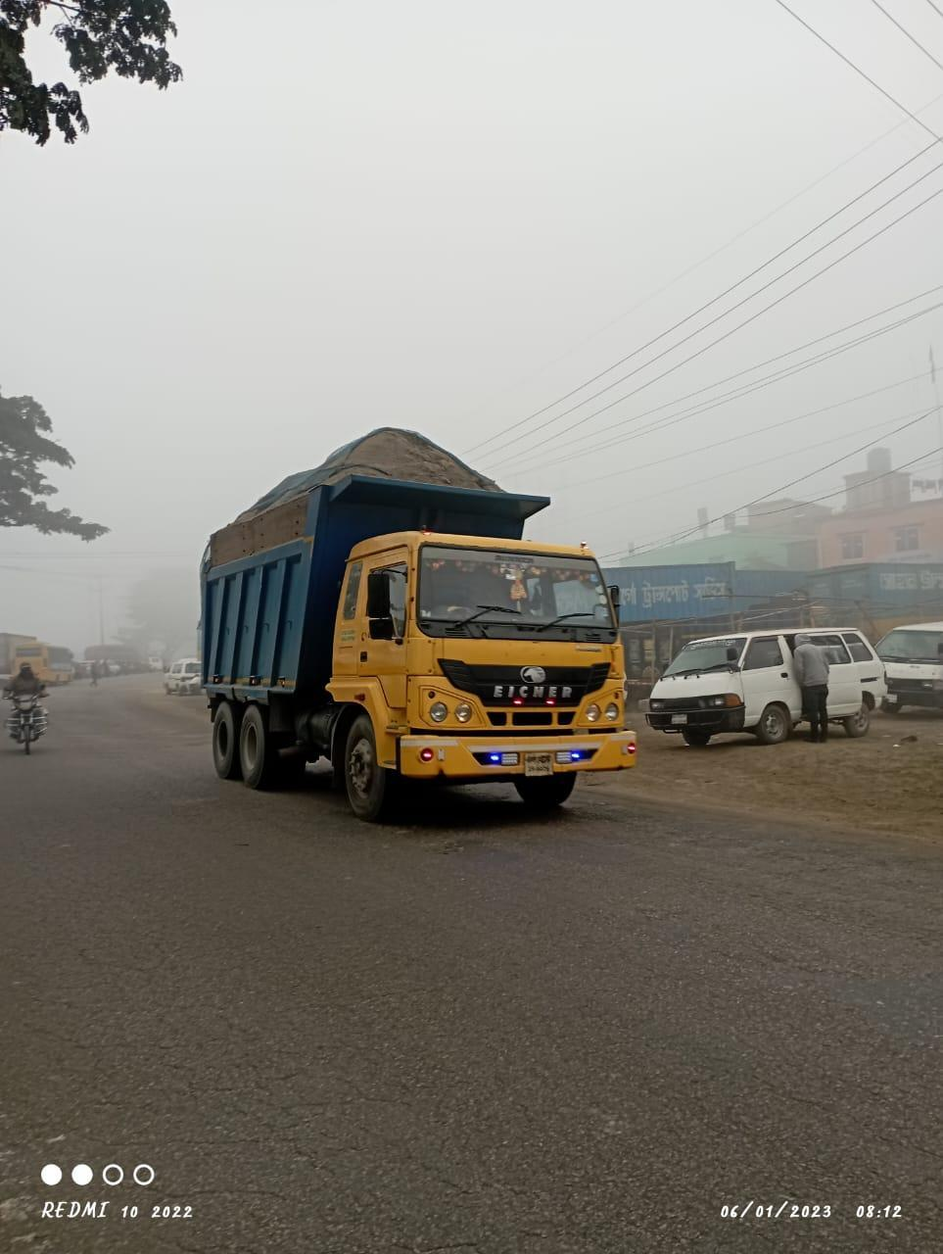Bike: (8, 654, 56, 763)
Car: (652, 620, 893, 752), (875, 606, 943, 714)
Truck: (149, 412, 652, 846)
